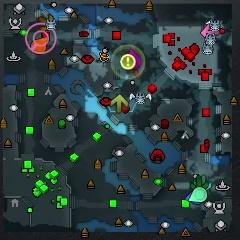Other: (120, 54, 136, 69)
p1: (184, 191, 203, 205)
p2: (189, 187, 207, 202)
p3: (126, 49, 141, 70)
p5: (31, 36, 48, 54)
x1: (200, 24, 219, 39)
x2: (111, 93, 128, 114)
x3: (194, 175, 212, 189)
x4: (190, 176, 208, 191)
x5: (38, 14, 55, 31)
